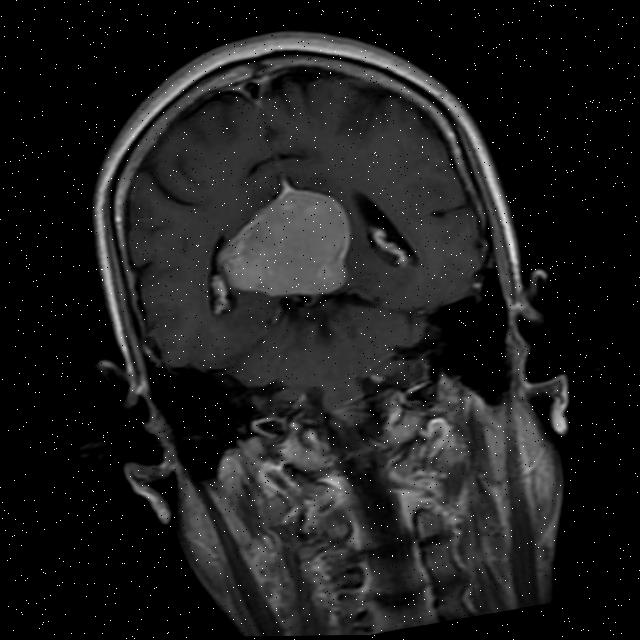Meningioma: (203, 167, 364, 312)
